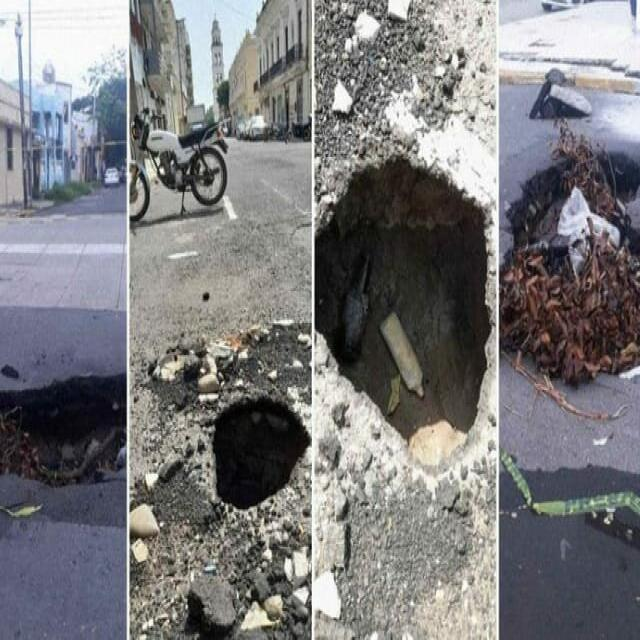Pothole: (309, 112, 502, 546), (509, 110, 640, 458), (3, 338, 128, 587), (204, 342, 306, 536)
